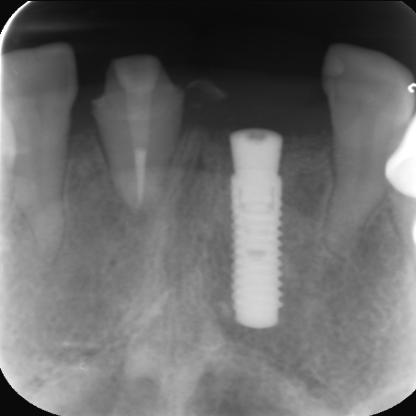ITI: (226, 167, 285, 329)
